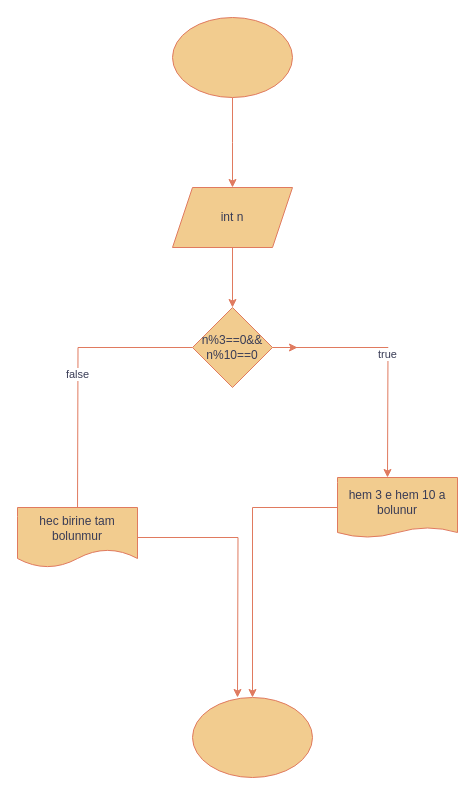
This 475x795 diagram has some shape labels left out. Here are the shapes that lost their labels. From the top down, the centre of each, then its label:
At (x=232, y=57): "start".
At (x=252, y=737): "end".
